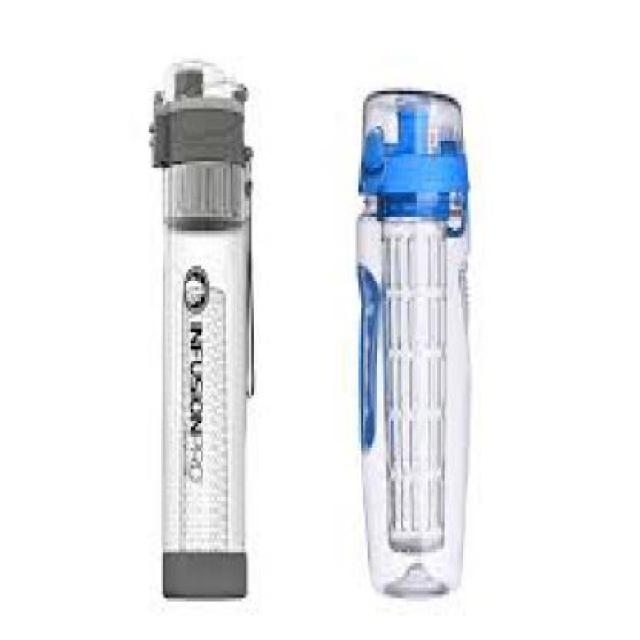Drinking: (130, 59, 264, 608), (342, 77, 466, 598)
